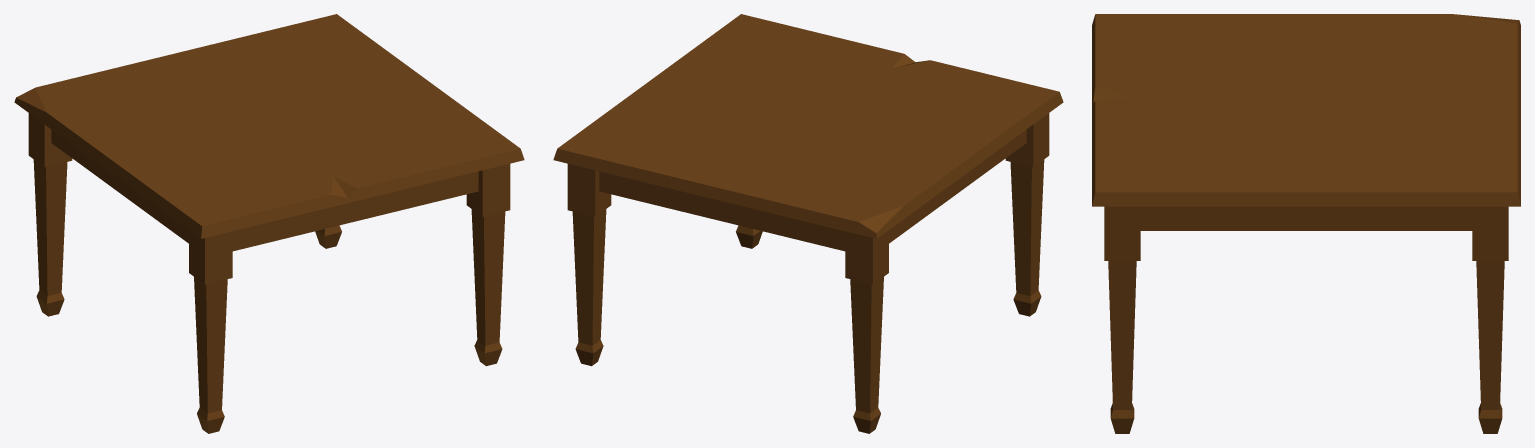
The model's file is Table.fbx.
The picture shows the model from 3 angles, left to right: view 1: azimuth 30°, elevation 25°; view 2: azimuth 150°, elevation 25°; view 3: azimuth 270°, elevation 25°; orthographic projection. The views are drawn at different scales.
Parts seen in each view (by area): view 1: Table; view 2: Table; view 3: Table.
Boxes of the visible parts, <box> form: Table: <box>14,14,524,433</box>; Table: <box>553,14,1063,433</box>; Table: <box>1092,14,1520,433</box>.
Size of the model in its own units: 127 by 81.41 by 127.
